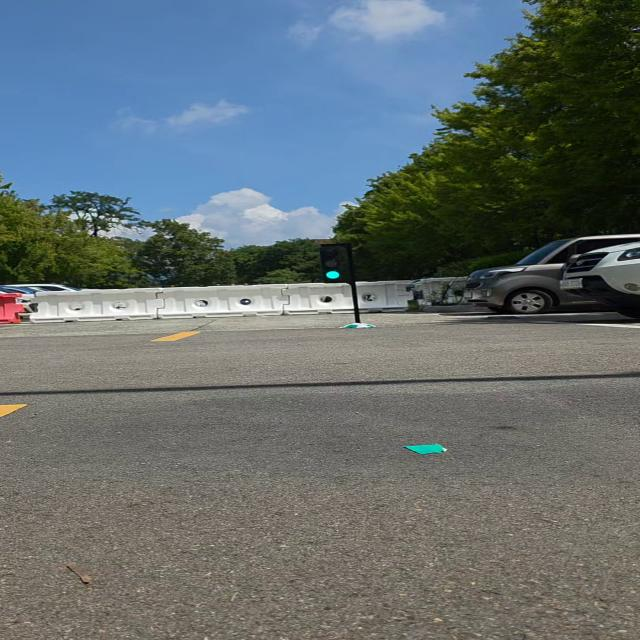green: (316, 242, 348, 284)
